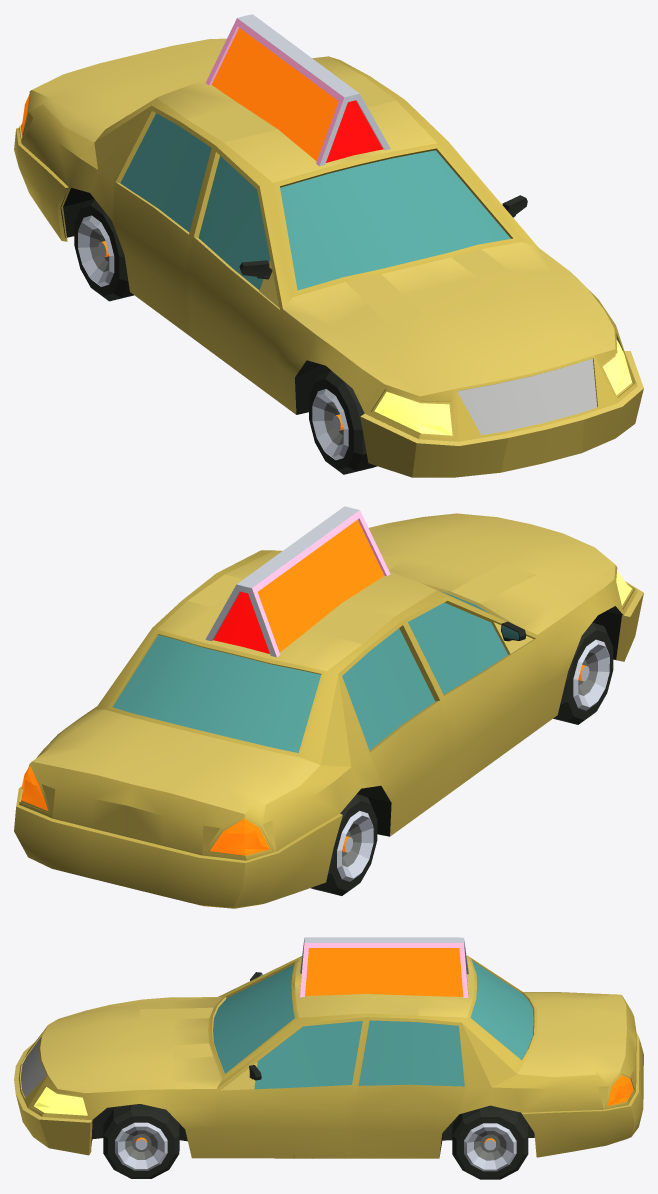
The model's file is Taxi.glb.
3 renders of one model, top to bottom at view 1: azimuth 30°, elevation 25°; view 2: azimuth 150°, elevation 25°; view 3: azimuth 270°, elevation 25°, orthographic. The views are drawn at different scales.
Parts seen in each view (by area): view 1: Taxi; view 2: Taxi; view 3: Taxi.
Boxes of the visible parts, left/top/right/bottom form: Taxi: left=14, top=14, right=643, bottom=477; Taxi: left=14, top=506, right=643, bottom=908; Taxi: left=14, top=937, right=643, bottom=1179.
Size of what is drawn, in the model's own units: 2.51 by 2.21 by 6.49.
Materials: 1 (1 with a texture image).
